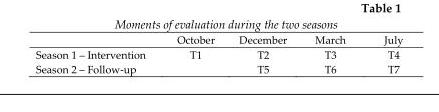table: (35, 34, 402, 75)
table column: (35, 34, 160, 75), (226, 34, 300, 75), (160, 34, 226, 75), (300, 34, 364, 75), (364, 34, 402, 75)
table column header: (35, 34, 402, 47)
table row: (35, 47, 402, 62), (35, 34, 402, 47), (35, 62, 402, 75)
